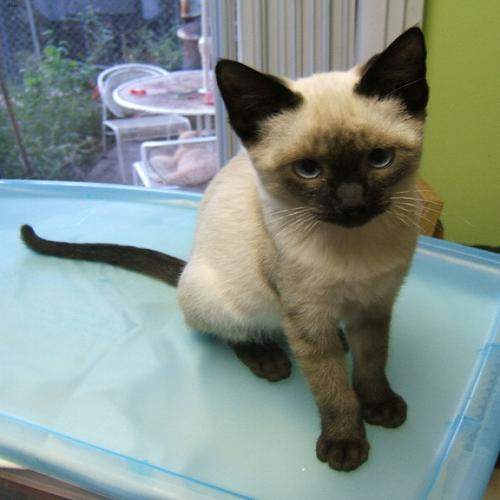siamese: (199, 14, 454, 242)
